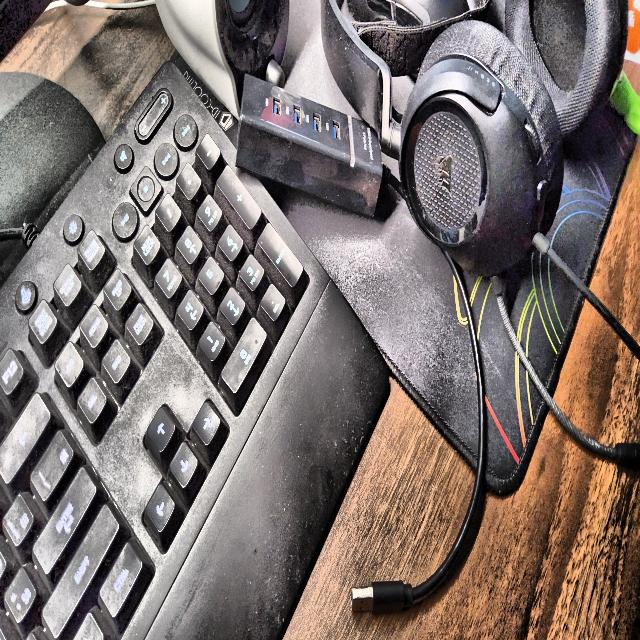HUB: (351, 252, 488, 614), (236, 75, 404, 216)
Keyboard: (0, 61, 389, 640)
